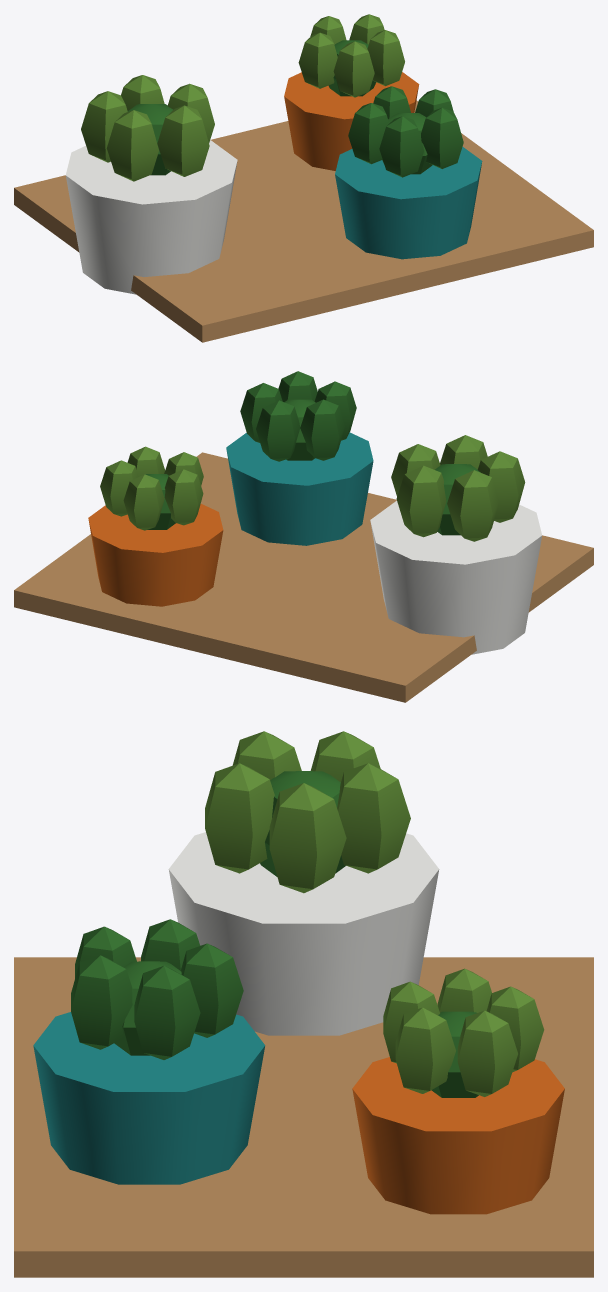
Rendered from plant_succulent_set.glb.
3 renders of one model, top to bottom at view 1: azimuth 30°, elevation 25°; view 2: azimuth 150°, elevation 25°; view 3: azimuth 270°, elevation 25°, orthographic. The views are drawn at different scales.
Parts seen in each view (by area): view 1: plant_succulent_set; view 2: plant_succulent_set; view 3: plant_succulent_set.
Boxes of the visible parts, x1=… form: plant_succulent_set: x1=14, y1=14, x2=593, y2=342; plant_succulent_set: x1=14, y1=371, x2=593, y2=702; plant_succulent_set: x1=14, y1=731, x2=593, y2=1277.
Size of the model in its own units: 0.3866 by 0.1525 by 0.3.
